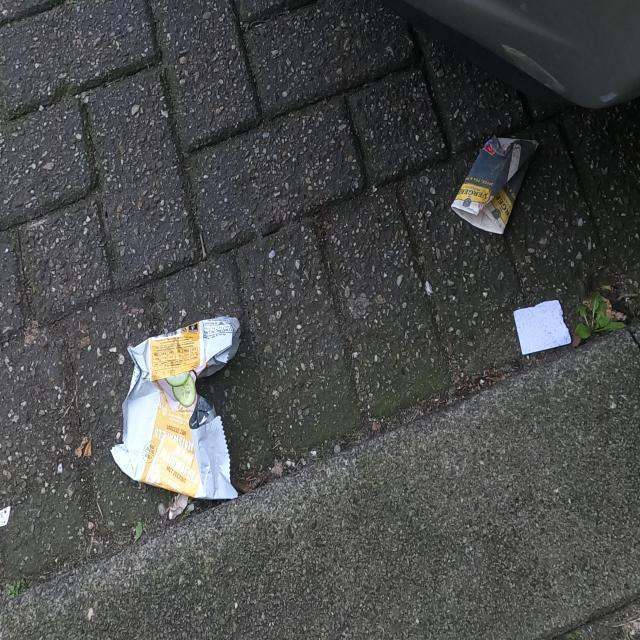Cup: (450, 134, 540, 235)
Plastic: (110, 314, 242, 501)
